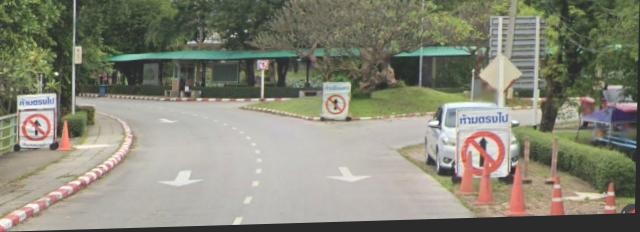not_go_straight: (462, 133, 506, 181), (22, 113, 54, 143), (325, 96, 349, 118)
